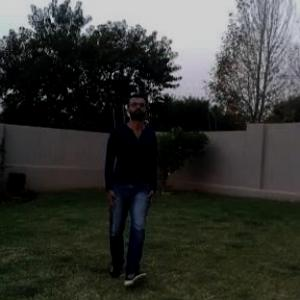follow: (102, 82, 162, 284)
